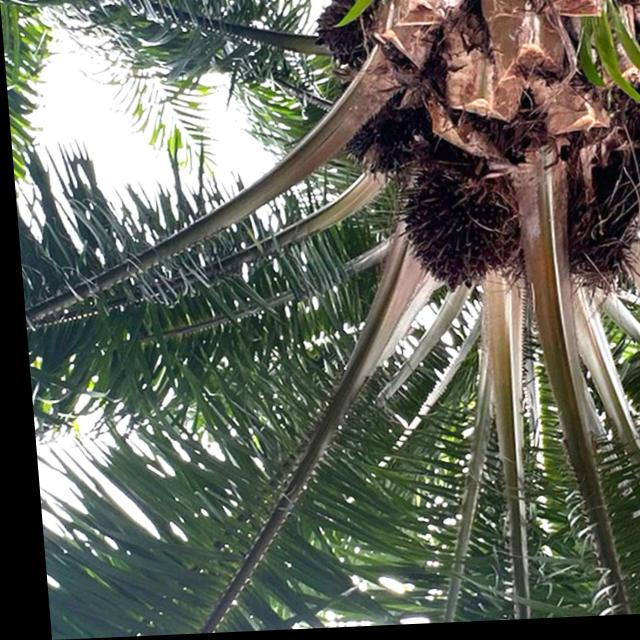almost: (392, 165, 518, 302)
